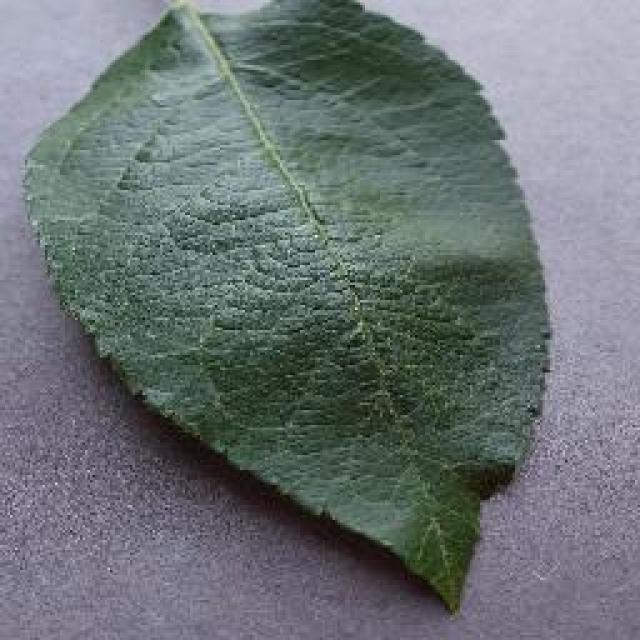apple healthy: (20, 0, 555, 615)
